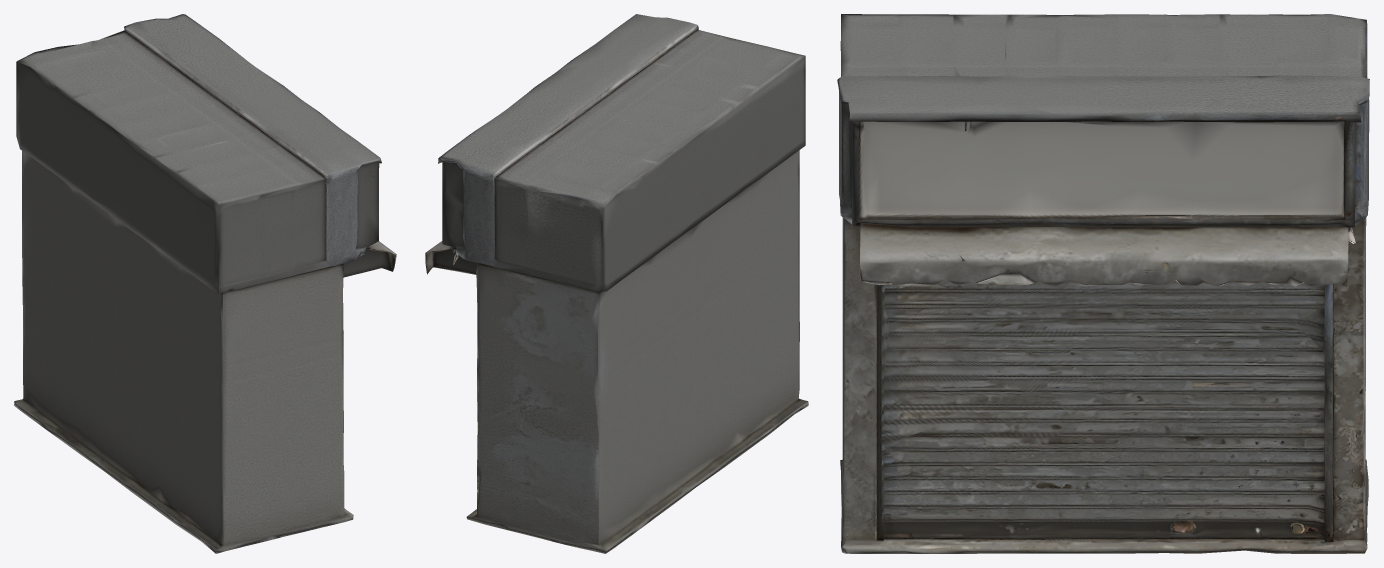
The picture shows the model from 3 angles, left to right: view 1: azimuth 30°, elevation 25°; view 2: azimuth 150°, elevation 25°; view 3: azimuth 270°, elevation 25°; orthographic projection. The views are drawn at different scales.
Parts seen in each view (by area): view 1: tripo_node_bda773ee-e65f-4b5b-abd8-cc1878be3cec; view 2: tripo_node_bda773ee-e65f-4b5b-abd8-cc1878be3cec; view 3: tripo_node_bda773ee-e65f-4b5b-abd8-cc1878be3cec.
Boxes of the visible parts, x1,y1,x2,y2 form: tripo_node_bda773ee-e65f-4b5b-abd8-cc1878be3cec: (14,14,396,553); tripo_node_bda773ee-e65f-4b5b-abd8-cc1878be3cec: (425,14,808,553); tripo_node_bda773ee-e65f-4b5b-abd8-cc1878be3cec: (837,14,1369,553).
Bounding box in the file's own units: 0.5357 × 0.9553 × 1.
Materials: 1 (1 with a texture image).
